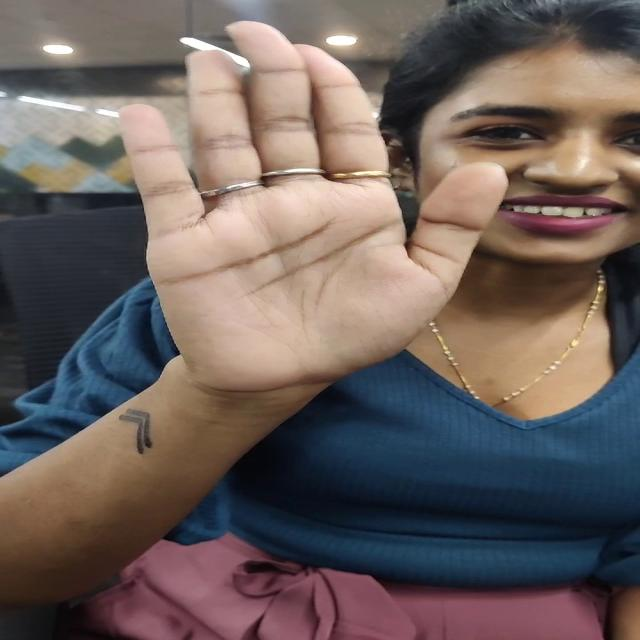no-gloves: (41, 13, 538, 398)
